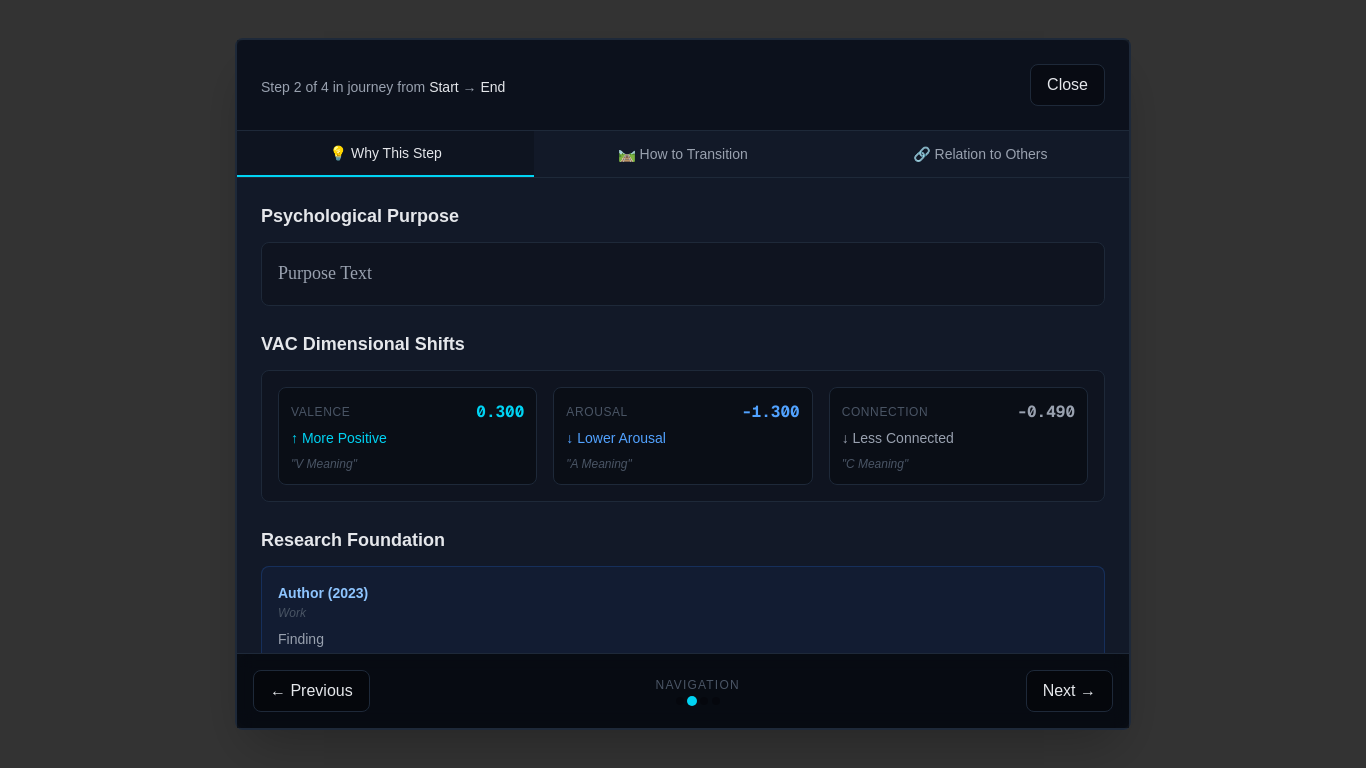
it: WaypointDetailModal › Interactivity & Edge Cases › switches tabs correctly
Switch to How
Click the tab "🛤️ How to Transition".
click(683, 154)  # box [534,131,832,177]
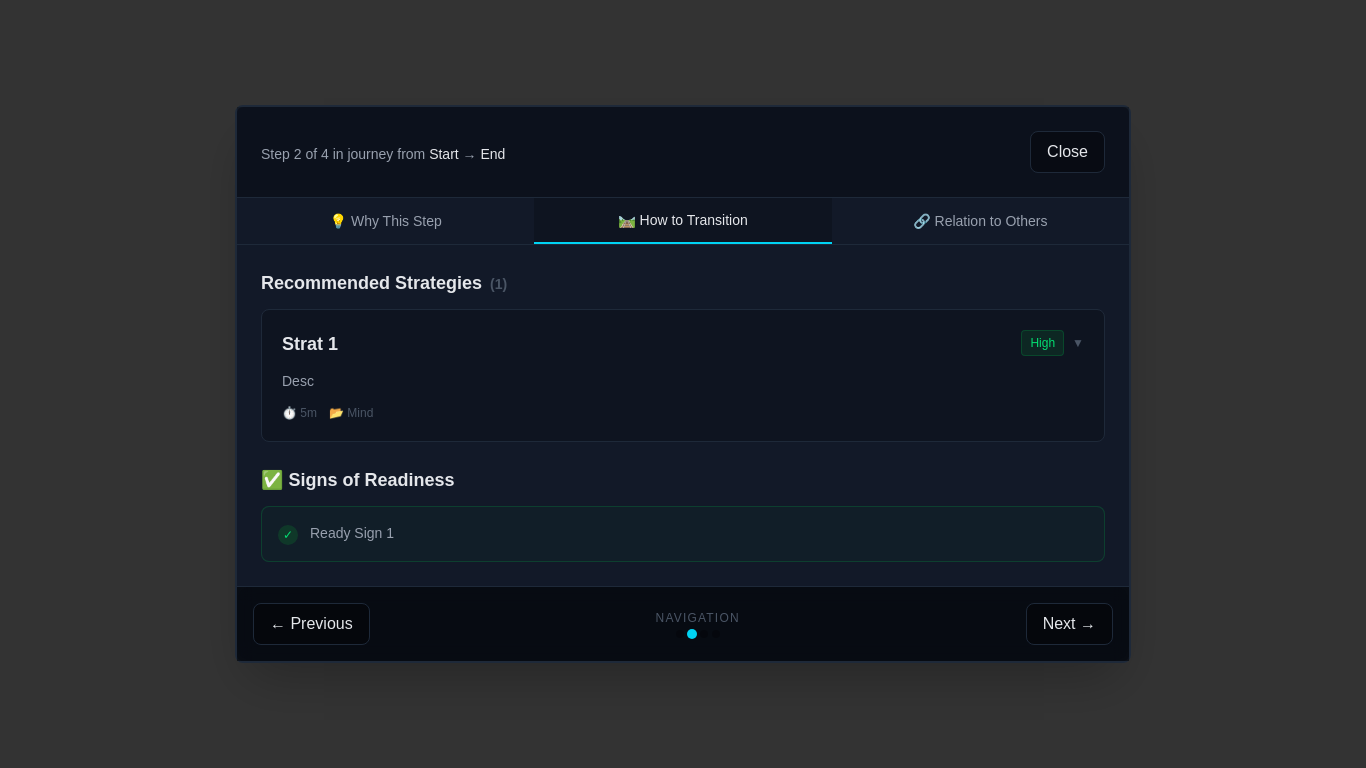
Expected: the heading "Recommended Strategies(1)" is shown, [261,273,507,293]
Switch back to Why (Covers line 268)
Click the tab "💡 Why This Step".
click(386, 221)  # box [237,198,534,244]
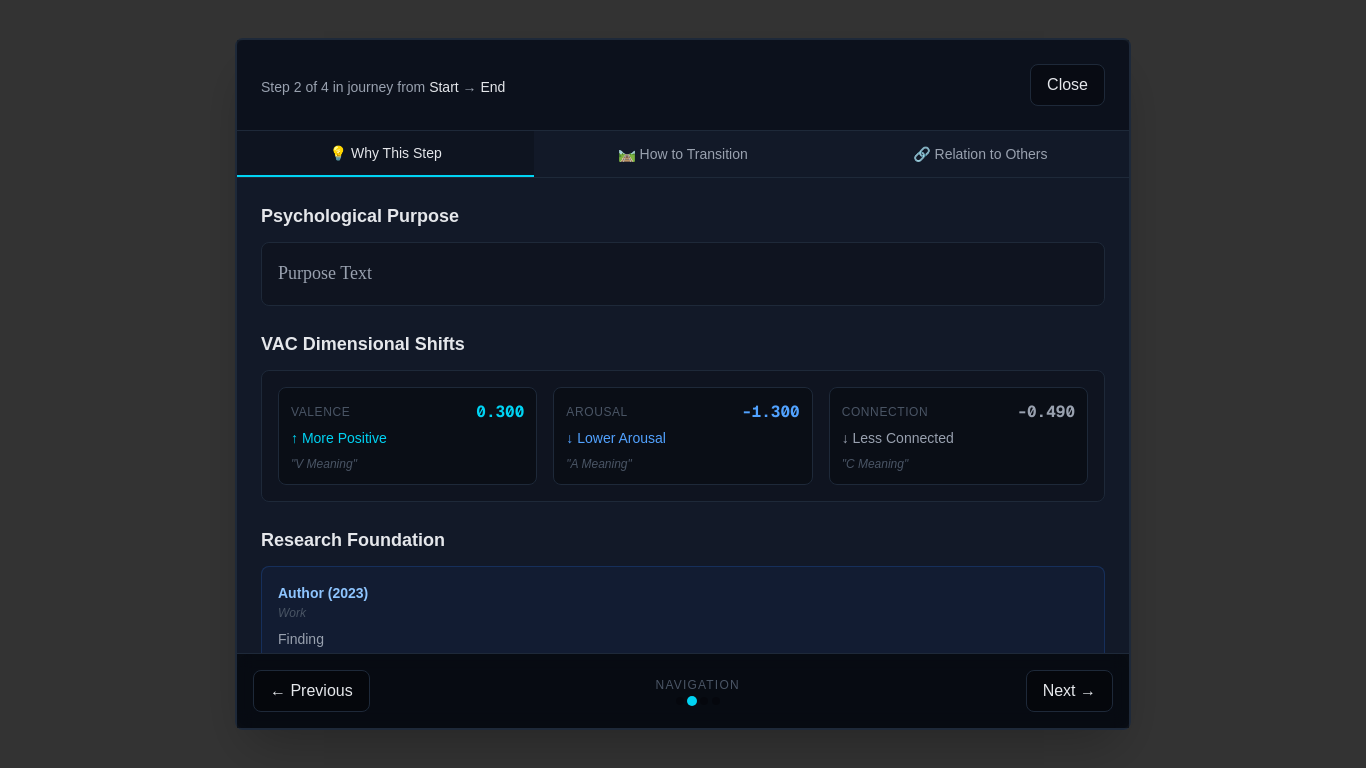
Expected: the heading "Psychological Purpose" is shown, [261,206,459,226]
